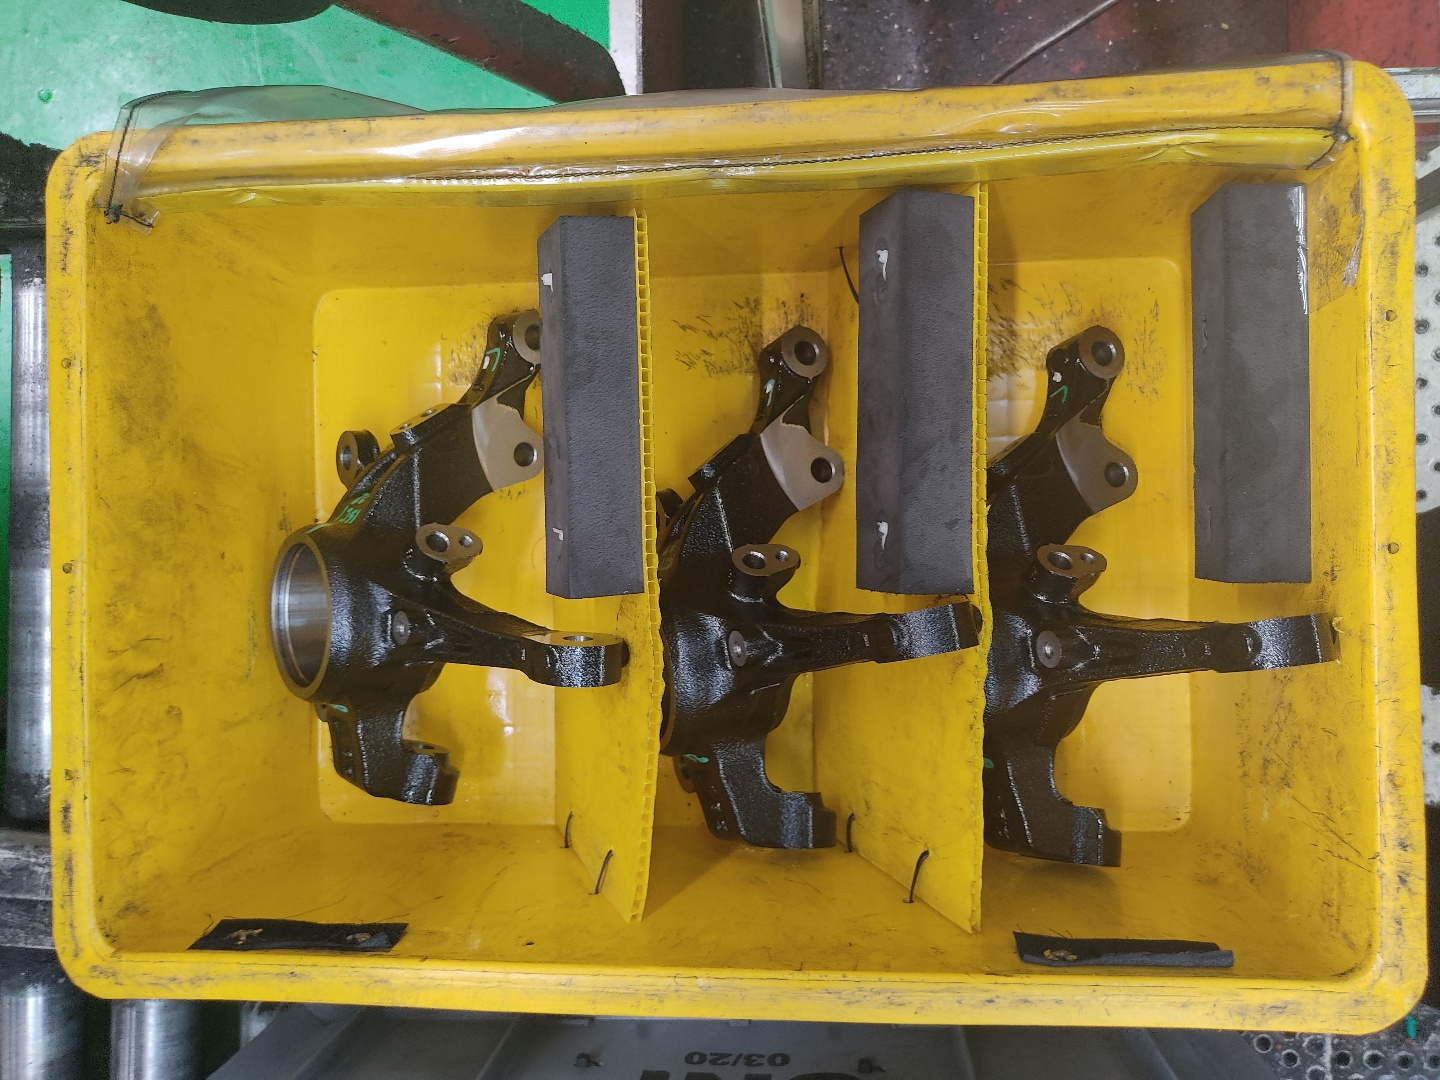abs-lh: (979, 314, 1347, 881), (262, 303, 635, 815), (639, 320, 986, 863)
